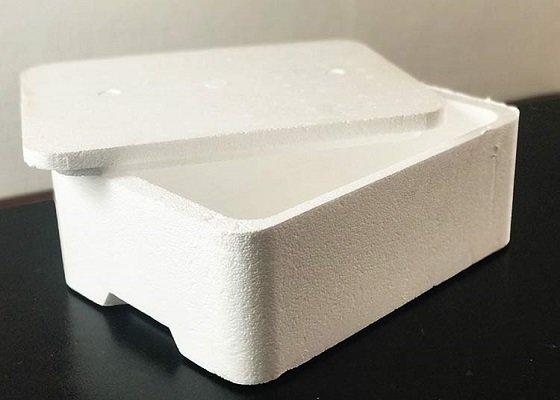Foam Box: (13, 34, 526, 388)
